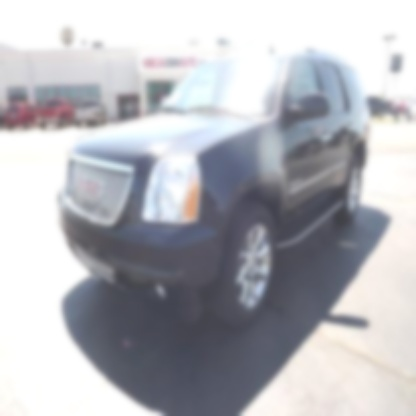Vehicle: (59, 51, 375, 333)
